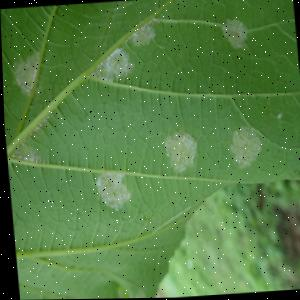Folha: (0, 0, 300, 300)
Fungo: (85, 19, 158, 85), (4, 111, 55, 165), (87, 43, 134, 84), (224, 123, 261, 171), (160, 129, 196, 175), (90, 170, 128, 213), (218, 17, 247, 50), (123, 20, 155, 49), (8, 137, 41, 165), (24, 112, 52, 140)
